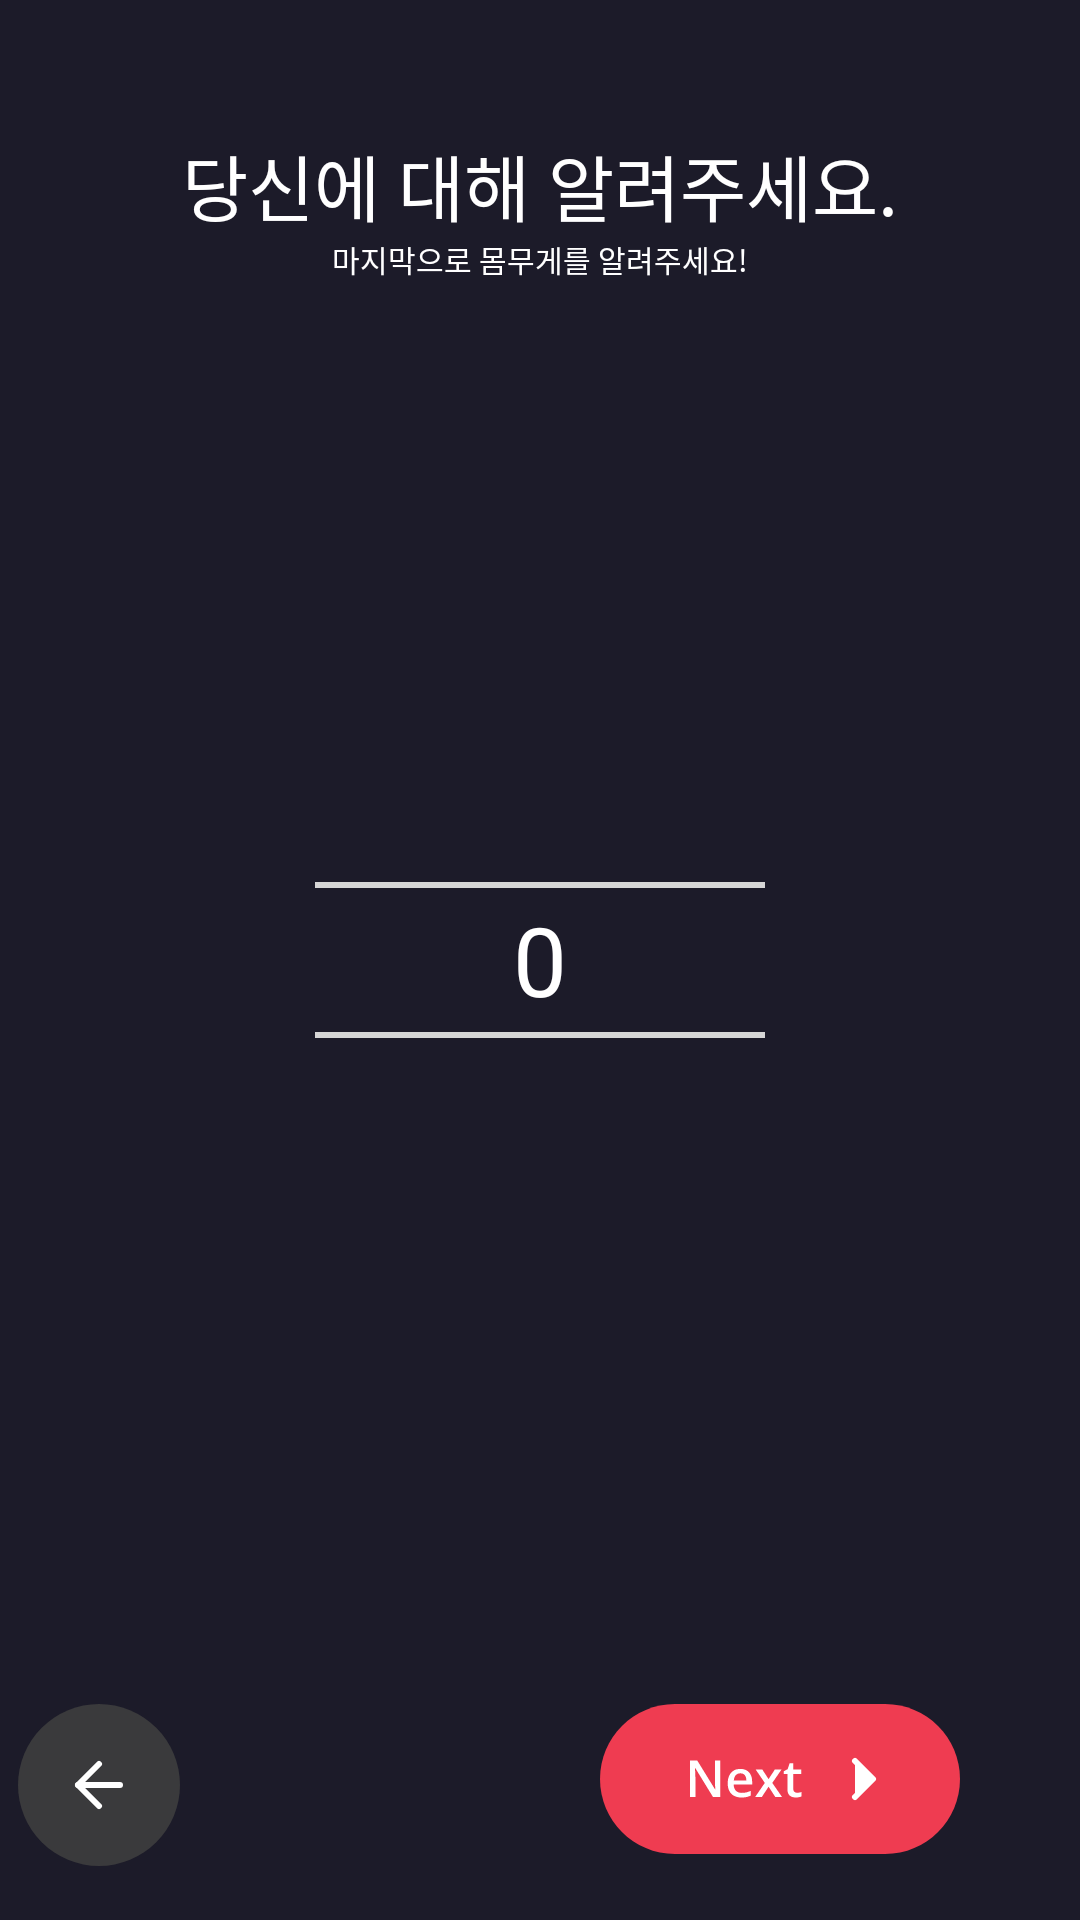

Icon click points for this 1080 × 1920 phone screenshot, format (x=x, y=y):
sign back: (x=99, y=1785)
